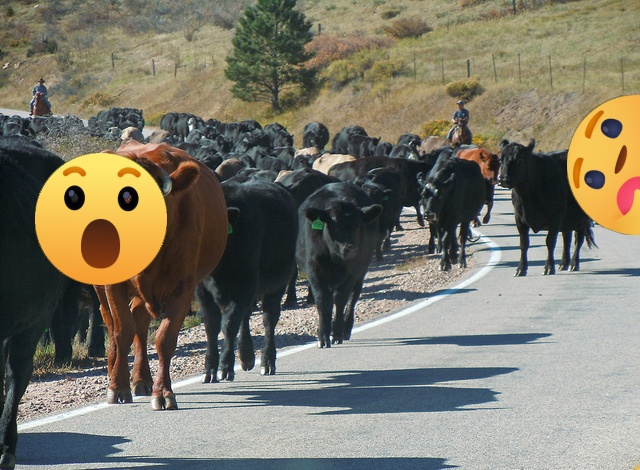care: (567, 95, 640, 235)
wow: (35, 153, 167, 285)
